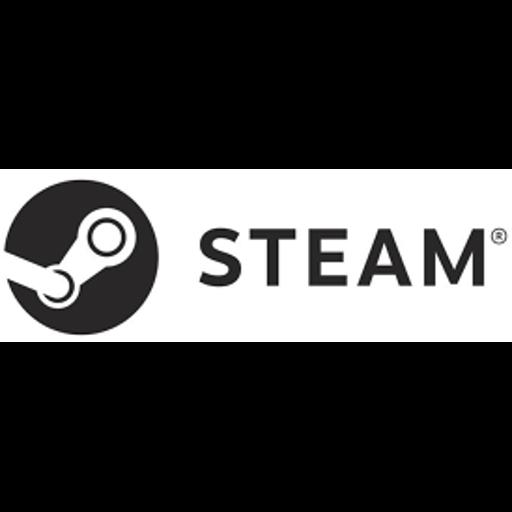Steam: (0, 169, 512, 342)
